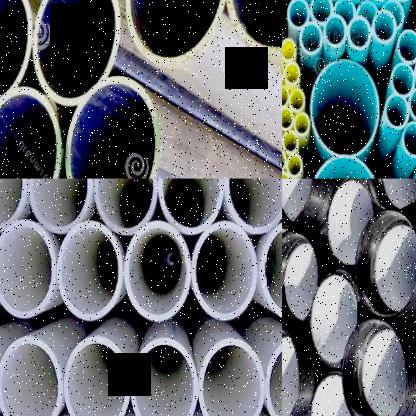pipe: (64, 76, 159, 179), (32, 0, 121, 106), (311, 59, 380, 158), (125, 221, 191, 322), (58, 221, 124, 322), (192, 221, 258, 321), (340, 318, 407, 416), (126, 0, 225, 66), (355, 210, 416, 317), (0, 87, 61, 179), (0, 220, 56, 319), (131, 337, 198, 416), (64, 336, 130, 416), (199, 338, 265, 416), (0, 336, 63, 416), (310, 270, 359, 365), (326, 178, 373, 266), (158, 178, 224, 235), (93, 178, 158, 235), (29, 178, 92, 233), (0, 0, 32, 107), (282, 231, 318, 325), (224, 178, 282, 234), (227, 0, 282, 58), (260, 219, 282, 320), (311, 371, 359, 416), (308, 154, 380, 179), (281, 327, 300, 416), (363, 179, 416, 210), (282, 179, 314, 228), (0, 178, 27, 233), (265, 336, 282, 416), (390, 63, 416, 97), (384, 95, 409, 129), (347, 16, 371, 50), (372, 11, 397, 43), (324, 14, 347, 48), (300, 23, 322, 54), (396, 29, 416, 62), (381, 0, 403, 28), (287, 0, 309, 28), (333, 0, 356, 26), (357, 0, 378, 28), (402, 122, 416, 157), (310, 0, 332, 22), (294, 112, 310, 137), (289, 89, 306, 112), (288, 154, 304, 178), (282, 131, 298, 154), (284, 62, 300, 84), (282, 37, 296, 60), (282, 106, 294, 130), (409, 88, 416, 122), (282, 84, 289, 107), (282, 148, 286, 173)
